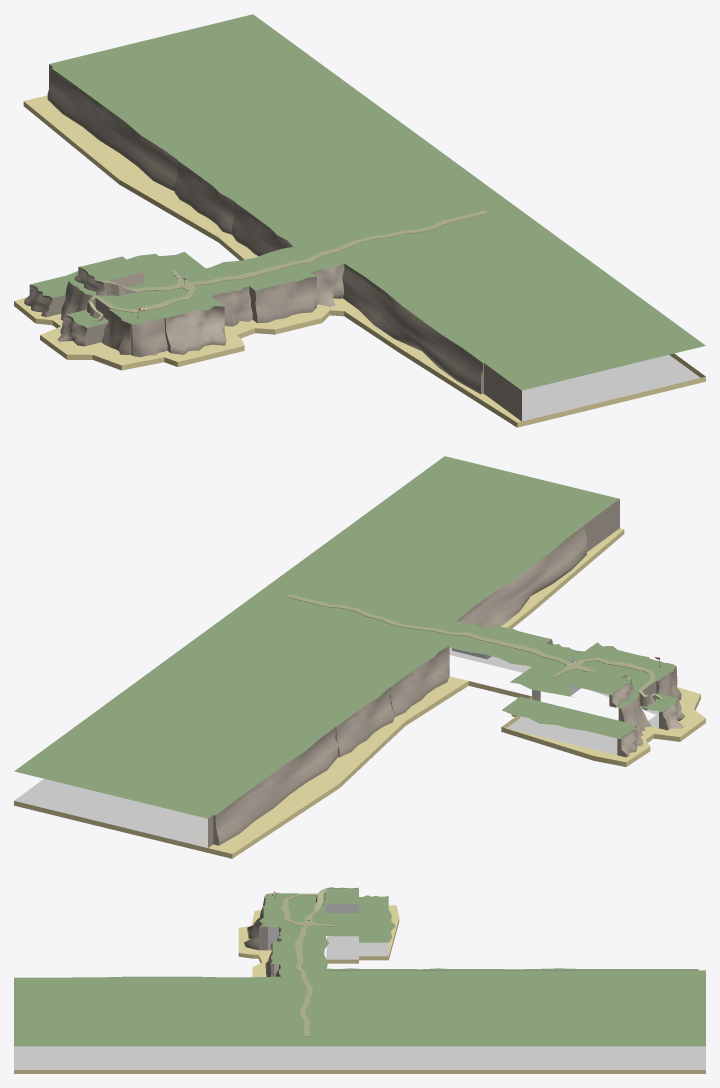
File: Ground.fbx
3 views of the same model, one above another, from view 1: azimuth 30°, elevation 25°; view 2: azimuth 150°, elevation 25°; view 3: azimuth 270°, elevation 25° (orthographic). The views are drawn at different scales.
Visible parts, largest first — view 1: pasted__polySurface24; view 2: pasted__polySurface24; view 3: pasted__polySurface24.
Part boxes in pixels (x1=…): pasted__polySurface24: x1=14, y1=14, x2=705, y2=427; pasted__polySurface24: x1=14, y1=456, x2=705, y2=858; pasted__polySurface24: x1=14, y1=887, x2=705, y2=1073.
Size of the model in its own units: 1955 by 195 by 3358.
